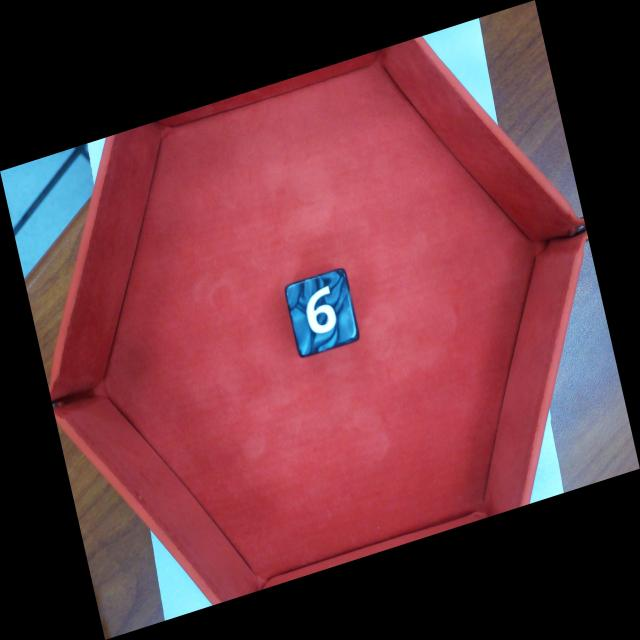dice: (285, 268, 360, 358)
